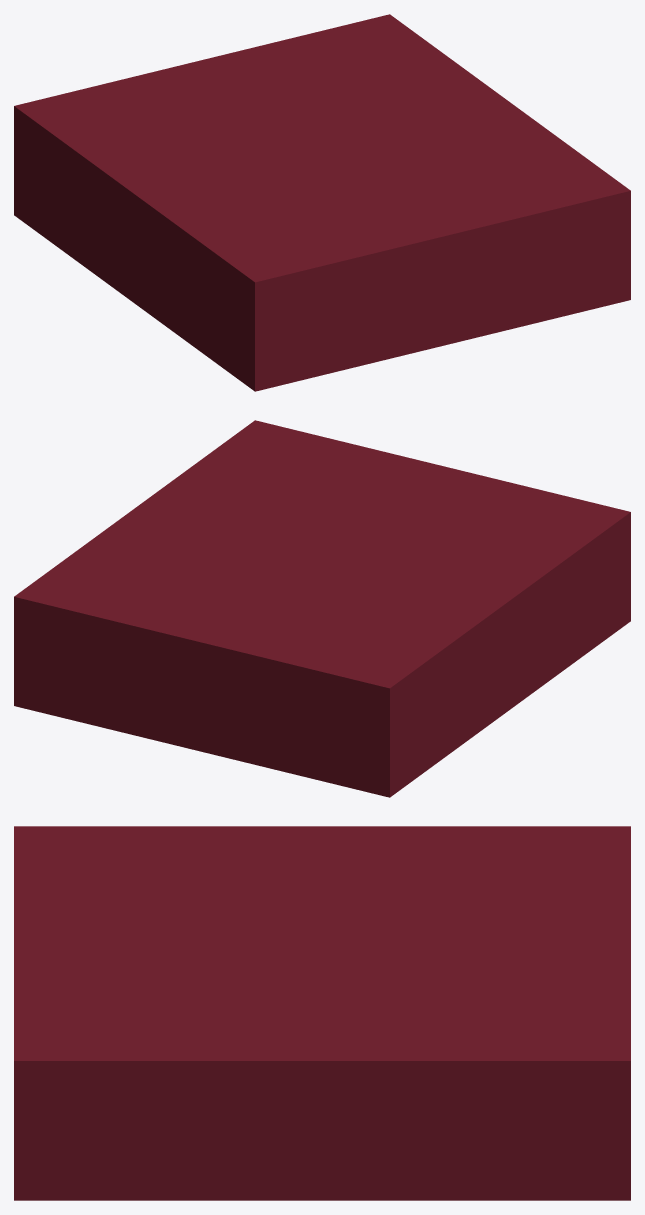
File: stage_001_grp.fbx
3 renders of one model, top to bottom at view 1: azimuth 30°, elevation 25°; view 2: azimuth 150°, elevation 25°; view 3: azimuth 270°, elevation 25°, orthographic. The views are drawn at different scales.
Parts seen in each view (by area): view 1: stage_001_grp; view 2: stage_001_grp; view 3: stage_001_grp.
Boxes of the visible parts, box(x1,y1,x2,y2) form: stage_001_grp: box(14, 14, 630, 391); stage_001_grp: box(14, 420, 630, 797); stage_001_grp: box(14, 826, 630, 1200).
Size of the model in its own units: 360 by 100 by 400.
